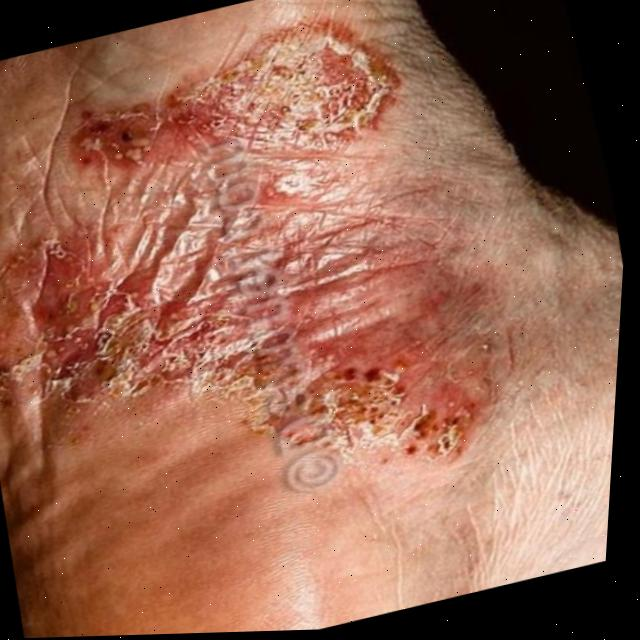Eczema: (0, 25, 464, 470)
